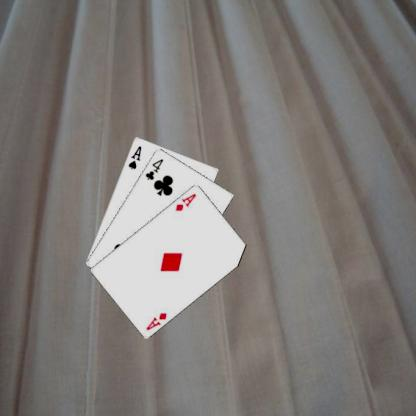4C: (142, 156, 165, 181)
AD: (172, 190, 198, 212), (144, 310, 168, 331)
AS: (126, 143, 142, 170)
